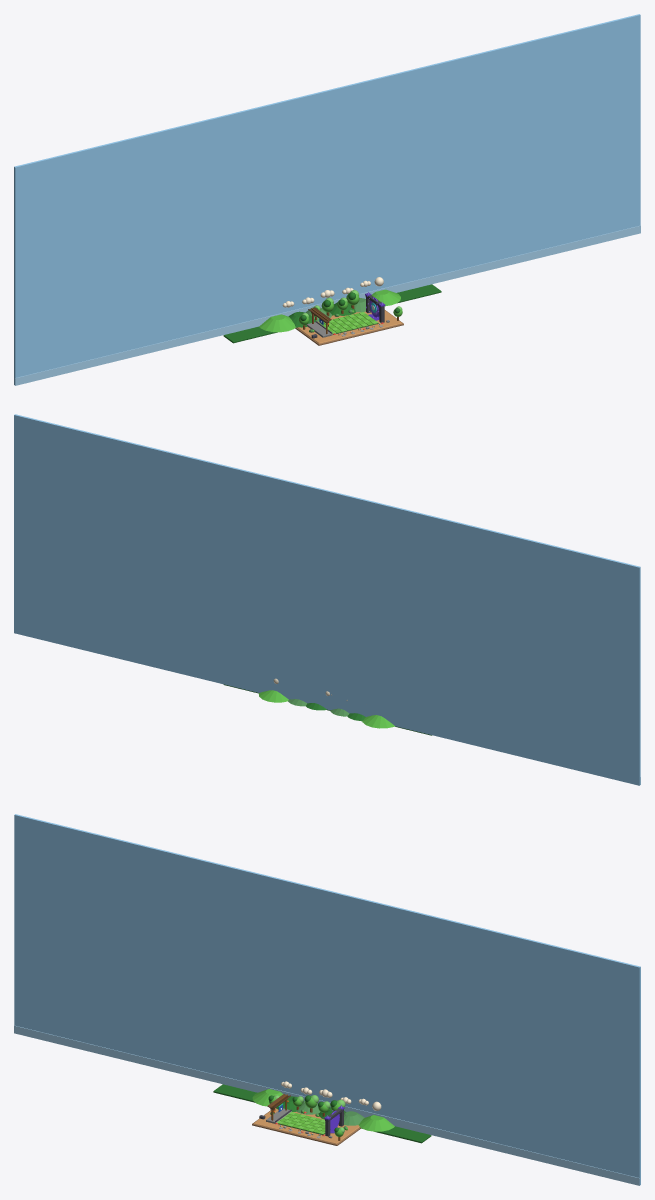
The model's file is world1.glb.
3 views of the same model, one above another, from view 1: azimuth 30°, elevation 25°; view 2: azimuth 150°, elevation 25°; view 3: azimuth 330°, elevation 25° (orthographic).
Parts seen in each view (by area): view 1: world1_backdrop, world1_structures, world1_ground; view 2: world1_backdrop; view 3: world1_backdrop, world1_structures, world1_ground.
Part boxes in pixels (left/top/right/bottom): world1_backdrop: left=14, top=14, right=640, bottom=385; world1_structures: left=298, top=290, right=402, bottom=338; world1_ground: left=295, top=310, right=403, bottom=345; world1_backdrop: left=14, top=414, right=640, bottom=785; world1_backdrop: left=14, top=814, right=640, bottom=1185; world1_structures: left=259, top=1094, right=347, bottom=1140; world1_ground: left=252, top=1108, right=360, bottom=1145.
Size of the model in its own units: 120 by 40.4 by 13.7.
Materials: 1 (1 with a texture image).
